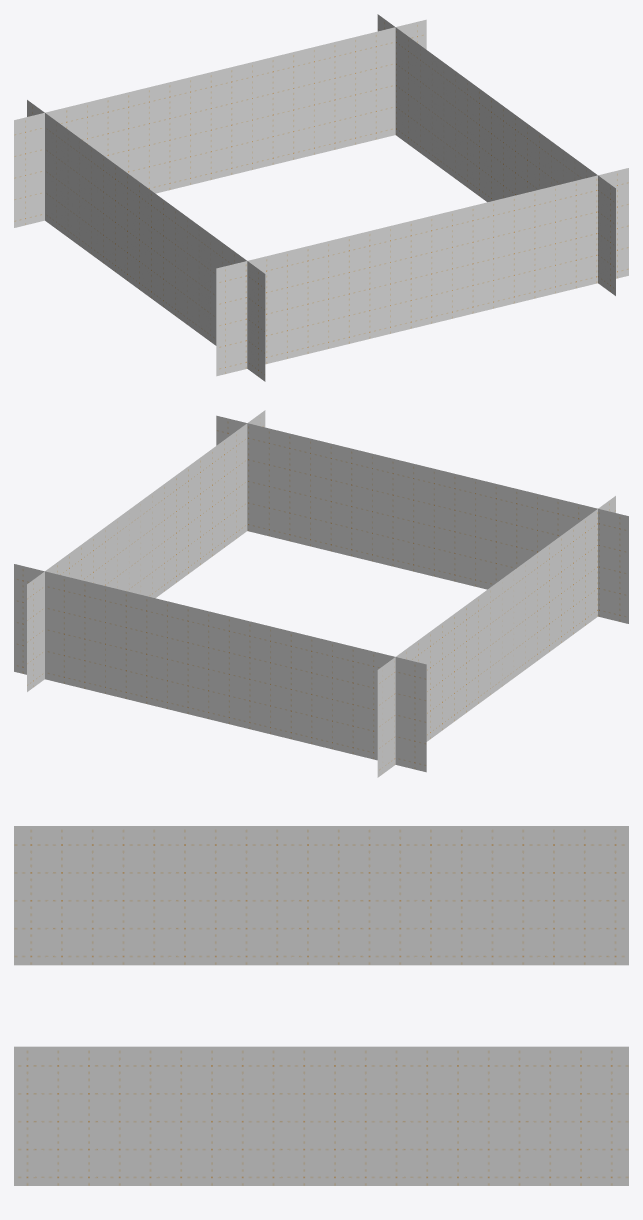
The model's file is wall.fbx.
3 views of the same model, one above another, from view 1: azimuth 30°, elevation 25°; view 2: azimuth 150°, elevation 25°; view 3: azimuth 270°, elevation 25° (orthographic). The views are drawn at different scales.
Visible parts, largest first — view 1: wall_b, wall_d, wall_a, wall_c; view 2: wall_d, wall_b, wall_a, wall_c; view 3: wall_a, wall_c.
Boxes of the visible parts, x1,y1,x2,y2 form: wall_b: [216, 168, 628, 376]; wall_d: [14, 19, 426, 227]; wall_a: [27, 100, 265, 381]; wall_c: [377, 14, 615, 295]; wall_d: [14, 564, 426, 772]; wall_b: [216, 415, 628, 623]; wall_a: [377, 496, 615, 777]; wall_c: [27, 410, 265, 691]; wall_a: [14, 826, 628, 965]; wall_c: [14, 1046, 628, 1185].
Size of the model in its own units: 2000 by 500 by 2000.
